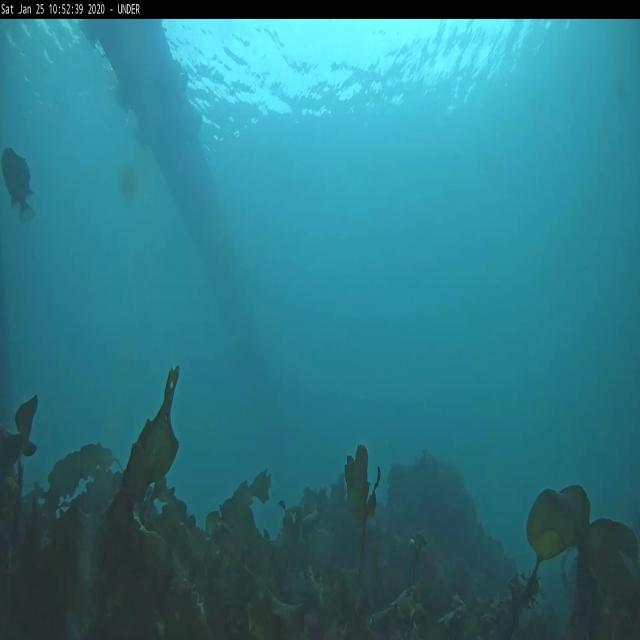fish: (0, 150, 37, 220)
